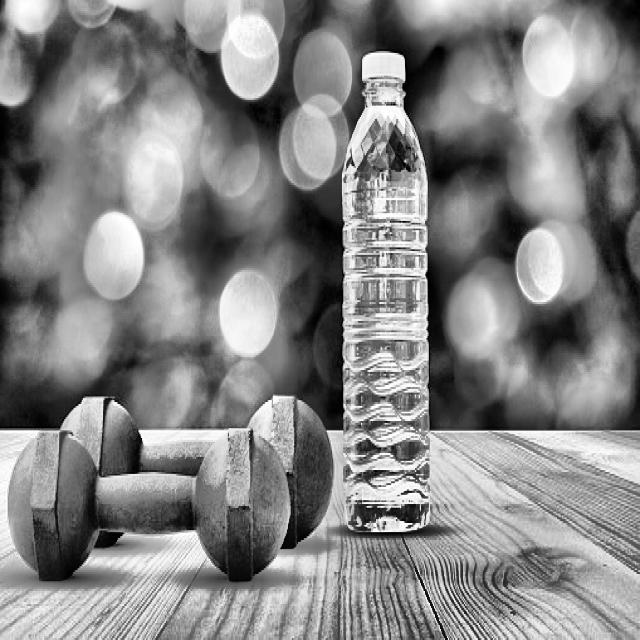waterbottle: (331, 43, 436, 544)
